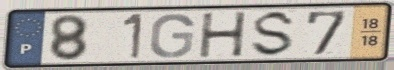1: (121, 12, 144, 61)
7: (303, 9, 349, 57)
8: (46, 12, 91, 64)
G: (147, 12, 197, 59)
H: (198, 10, 250, 60)
S: (248, 9, 299, 59)
